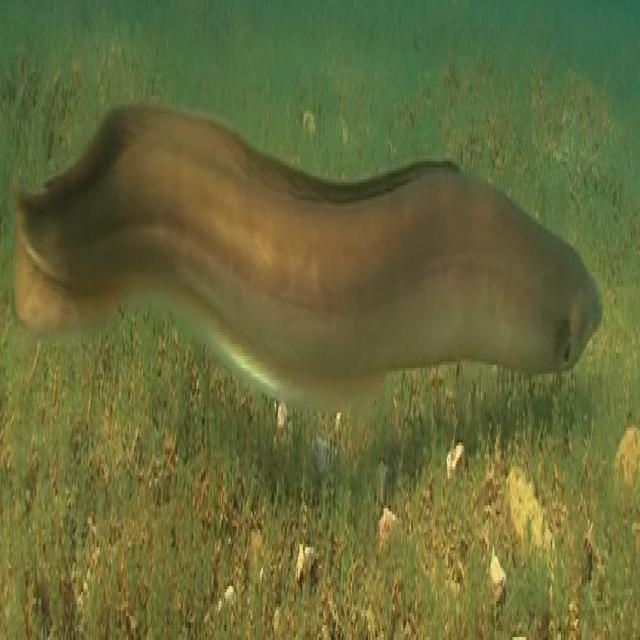Freshwater-Eel: (0, 65, 609, 483)
